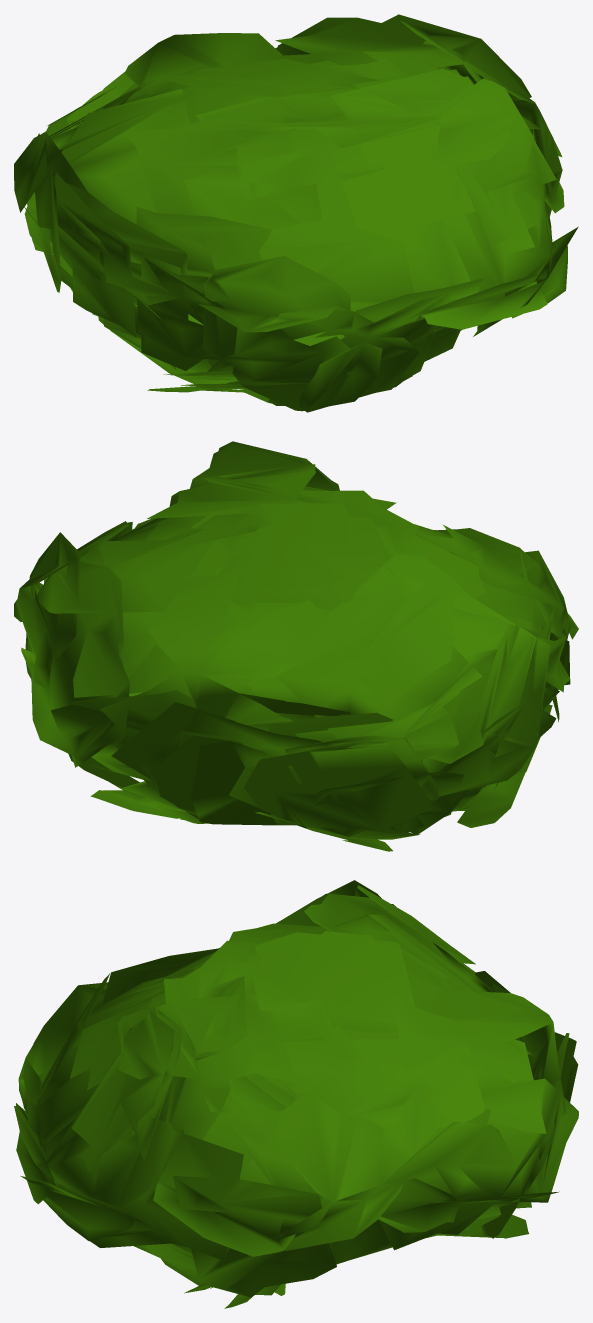
File: Bush.06.fbx
3 renders of one model, top to bottom at view 1: azimuth 30°, elevation 25°; view 2: azimuth 150°, elevation 25°; view 3: azimuth 270°, elevation 25°, orthographic. The views are drawn at different scales.
Visible parts, largest first — view 1: null2; view 2: null2; view 3: null2.
Boxes of the visible parts, x1,y1,x2,y2 form: null2: (14, 14, 578, 412); null2: (14, 441, 578, 851); null2: (14, 880, 578, 1308).
Bounding box in the file's own units: 3.09 × 1.67 × 2.93.
